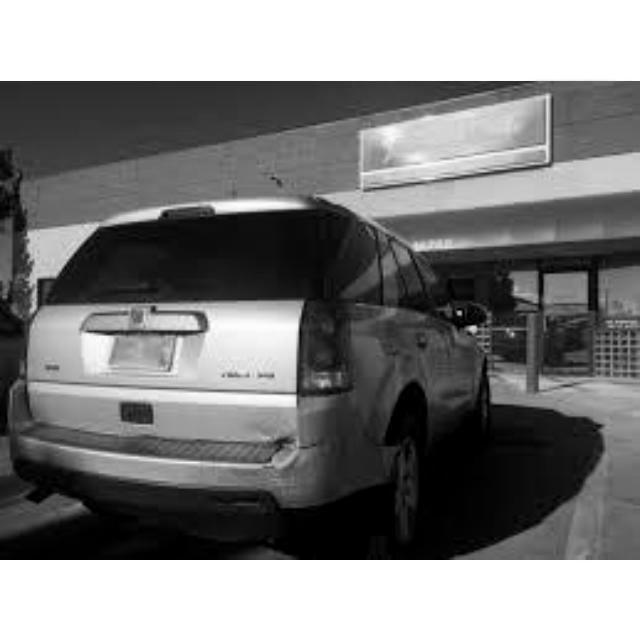rear-bumper-dent: (186, 434, 309, 495)
